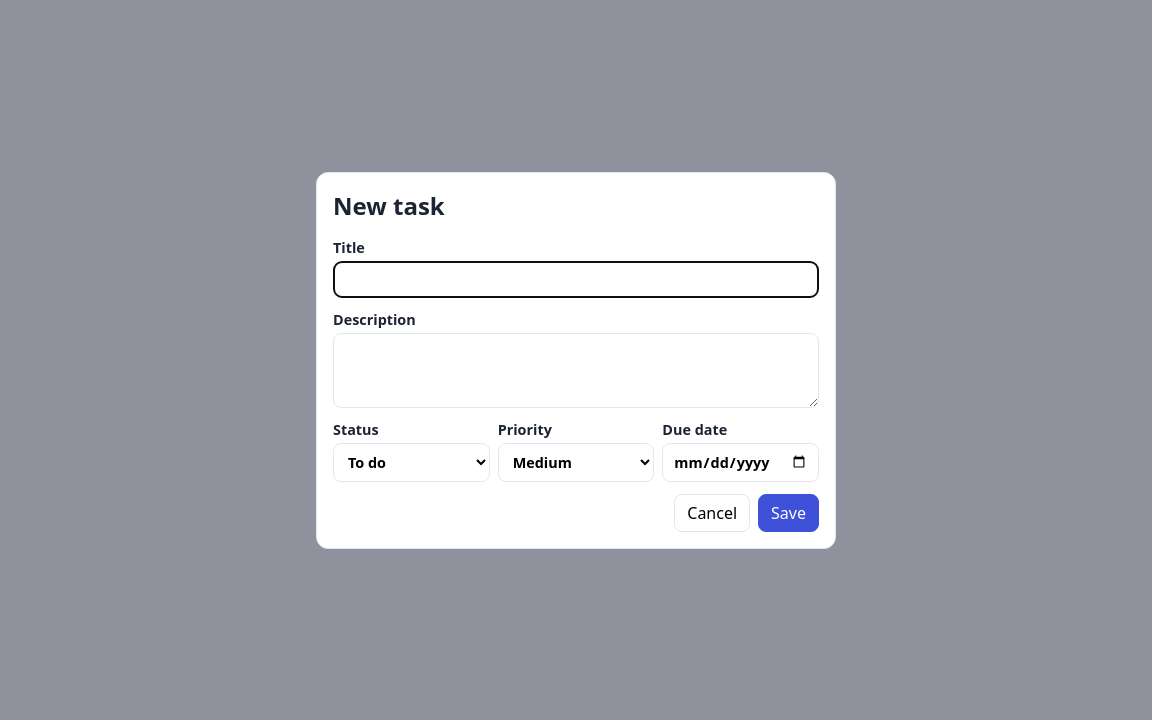
it: TaskForm › requires a title
The width and height of the screenshot is (1152, 720).
Click the button "Save" at (789, 512), box x1=758 y1=494 x2=819 y2=532
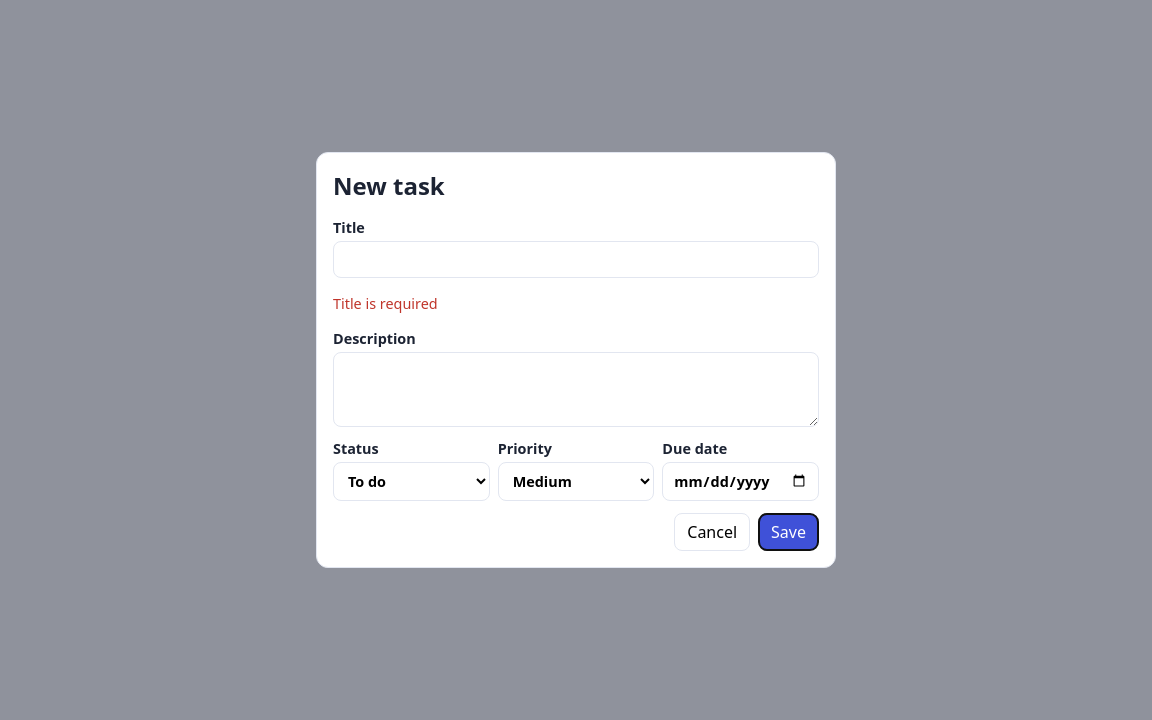
Expected: the message reads "Title is required", x1=333 y1=294 x2=438 y2=313
